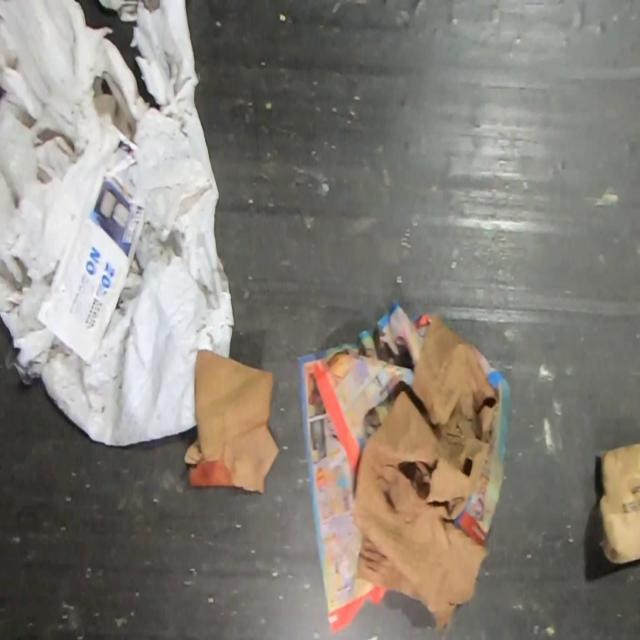cardboard: (351, 313, 498, 633), (182, 349, 280, 493)
rigid_plastic: (597, 431, 640, 564)
